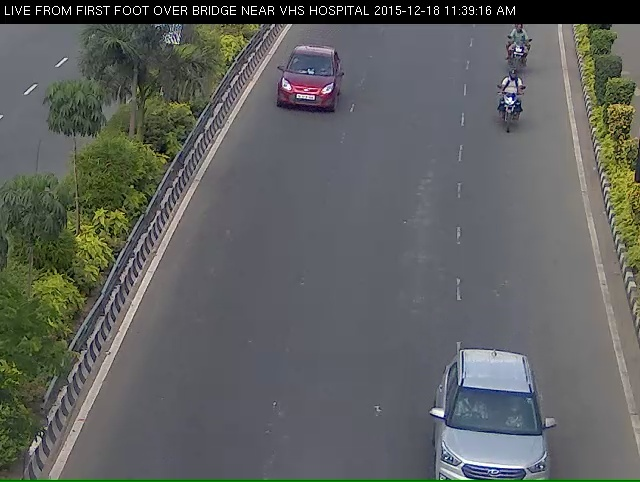Car: (432, 389, 563, 480), (274, 52, 341, 129)
Person: (496, 85, 528, 153), (505, 30, 532, 89)
